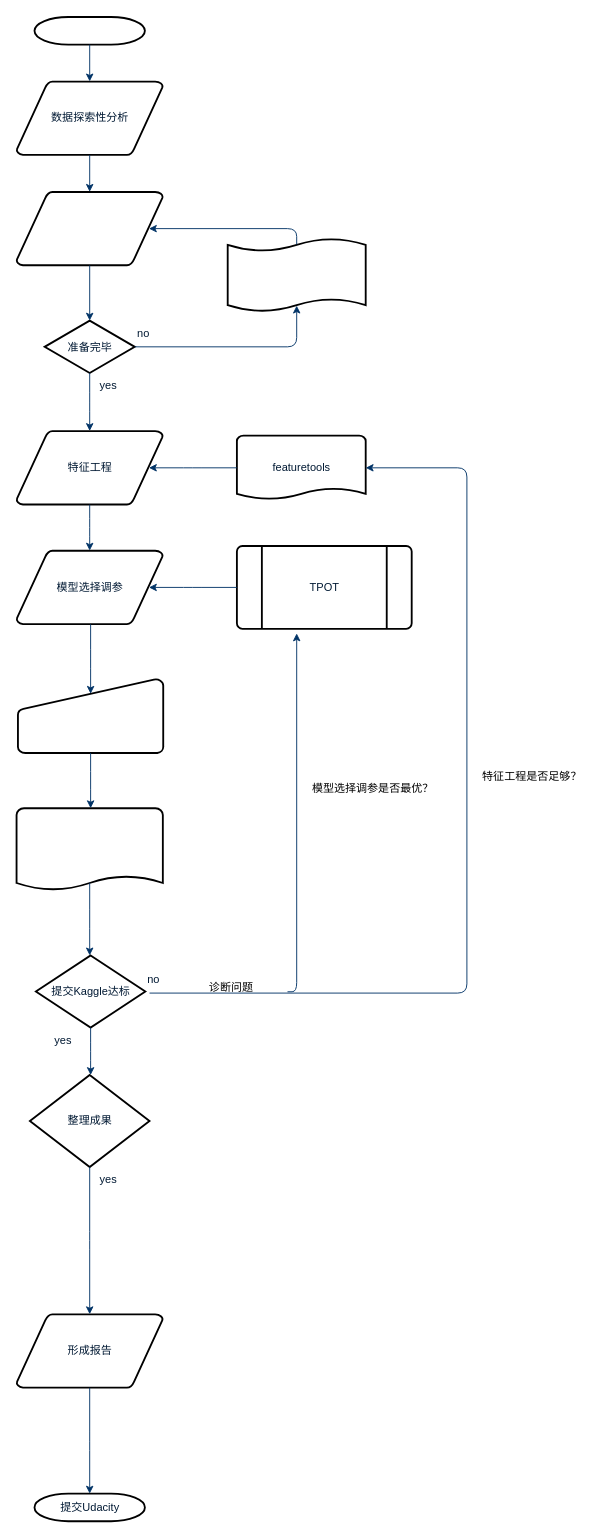
This 607x1537 diagram has some shape labels left out. The centre of each missing label's shape, as x and y in pixels:
导入数据: (89,30)
数据清洗前处理: (89,228)
整理测试数据: (90,715)
检查遗漏缺失值及NaN: (296,274)
输出测试结果: (89,849)
